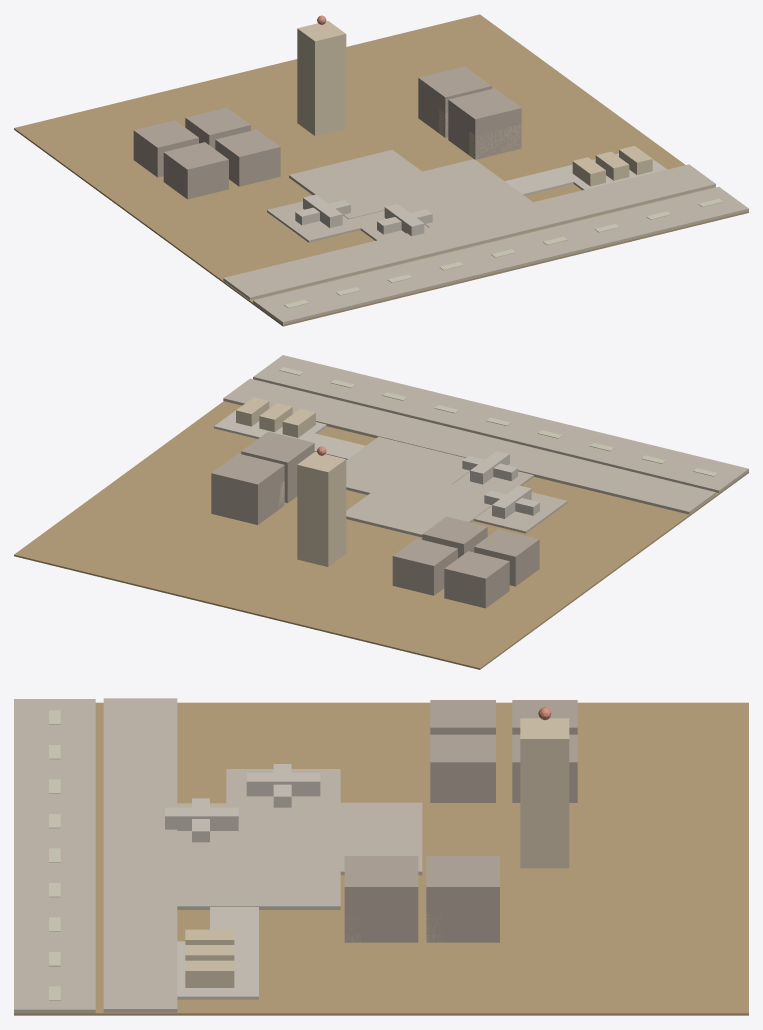
File: stage_14.glb
3 renders of one model, top to bottom at view 1: azimuth 30°, elevation 25°; view 2: azimuth 150°, elevation 25°; view 3: azimuth 270°, elevation 25°, orthographic. The views are drawn at different scales.
Visible parts, largest first — view 1: geometry_0; view 2: geometry_0; view 3: geometry_0.
Part boxes in pixels (box(x1,y1,x2,y2)): geometry_0: box(14, 14, 748, 326); geometry_0: box(14, 355, 748, 669); geometry_0: box(14, 698, 748, 1015).
Size of the model in its own units: 9 by 2.06 by 9.
